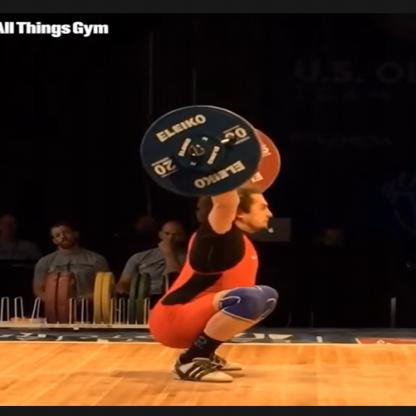Barbell: (134, 102, 269, 200)
